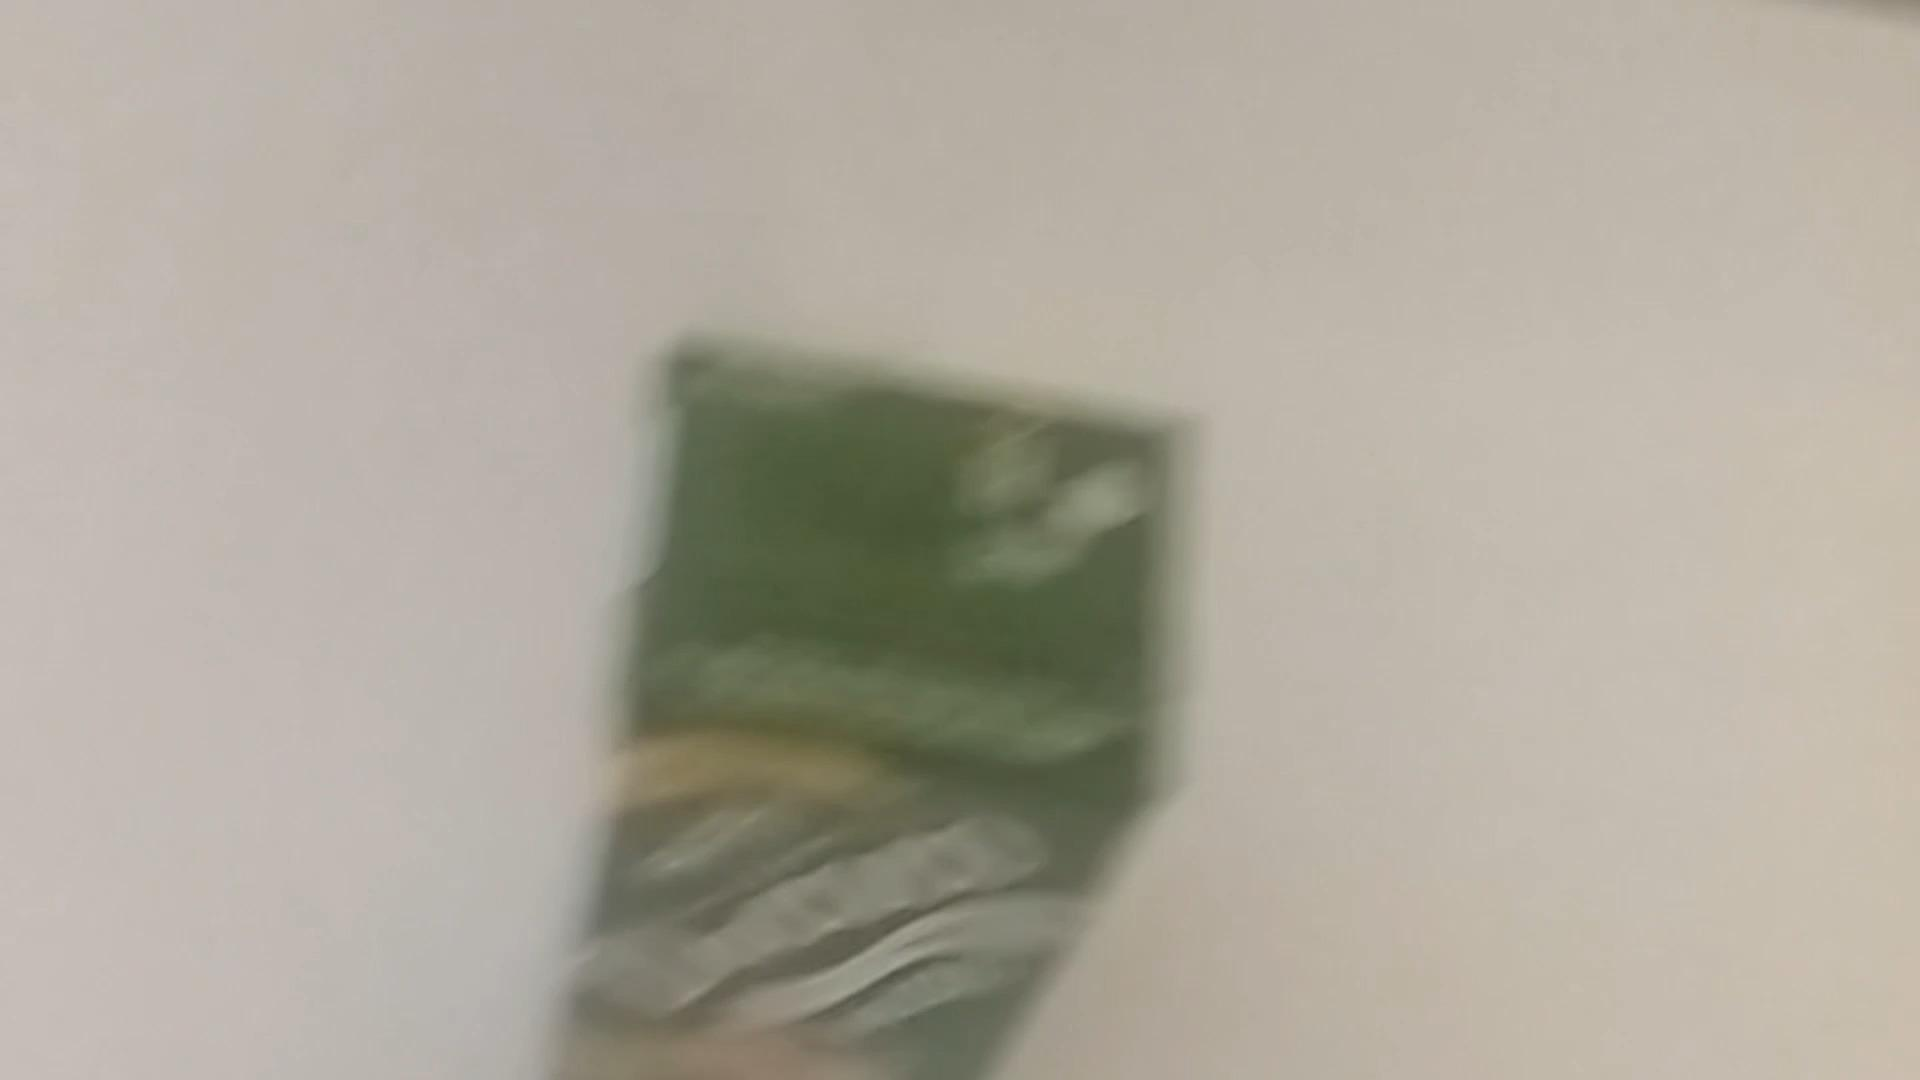coco: (563, 315, 1200, 1080)
